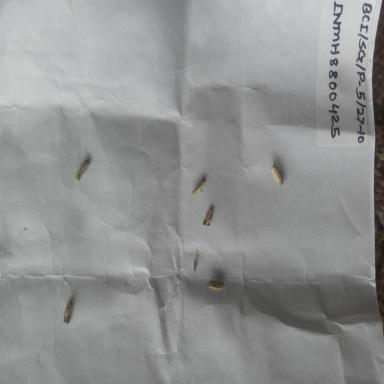pbw: (265, 158, 284, 192), (69, 156, 92, 182), (200, 200, 219, 230), (204, 275, 228, 296), (62, 296, 76, 329), (189, 177, 207, 202), (191, 250, 200, 272)
